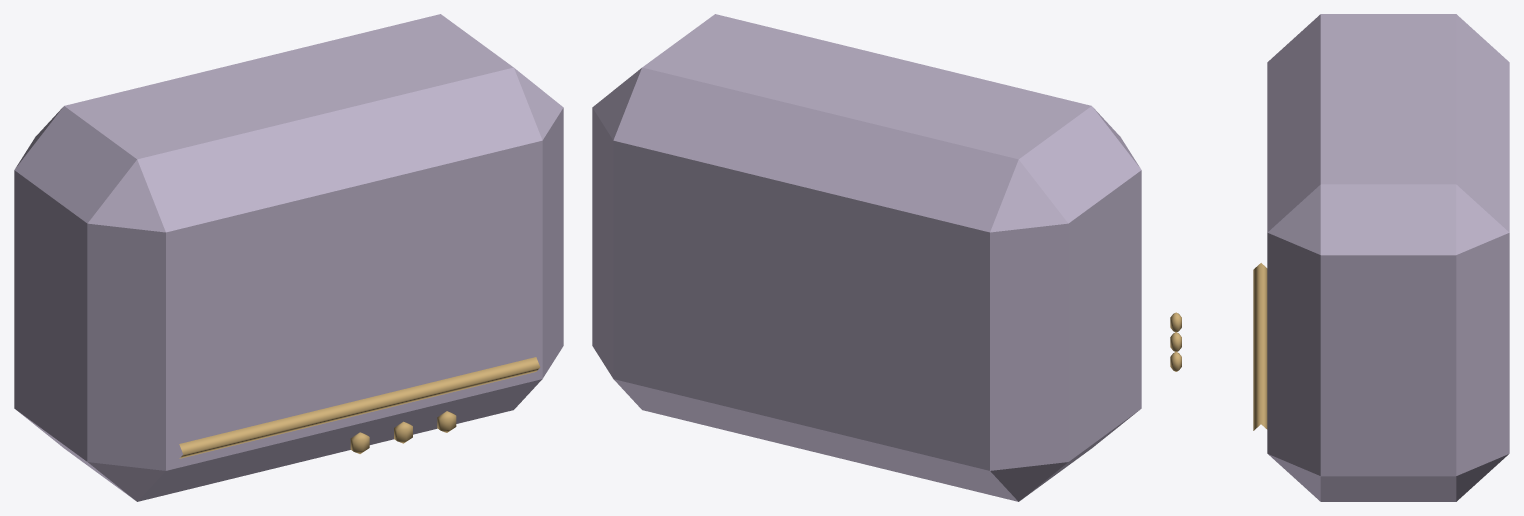
3 views of the same model, side by side, from view 1: azimuth 30°, elevation 25°; view 2: azimuth 150°, elevation 25°; view 3: azimuth 270°, elevation 25° (orthographic). The views are drawn at different scales.
Parts seen in each view (by area): view 1: g_s11; view 2: g_s11; view 3: g_s11.
Part boxes in pixels (x1,y1,x2,y2): g_s11: (14,14,563,501); g_s11: (592,14,1141,501); g_s11: (1170,14,1509,501).
Bounding box in the file's own units: 0.384 × 0.264 × 0.2555.
